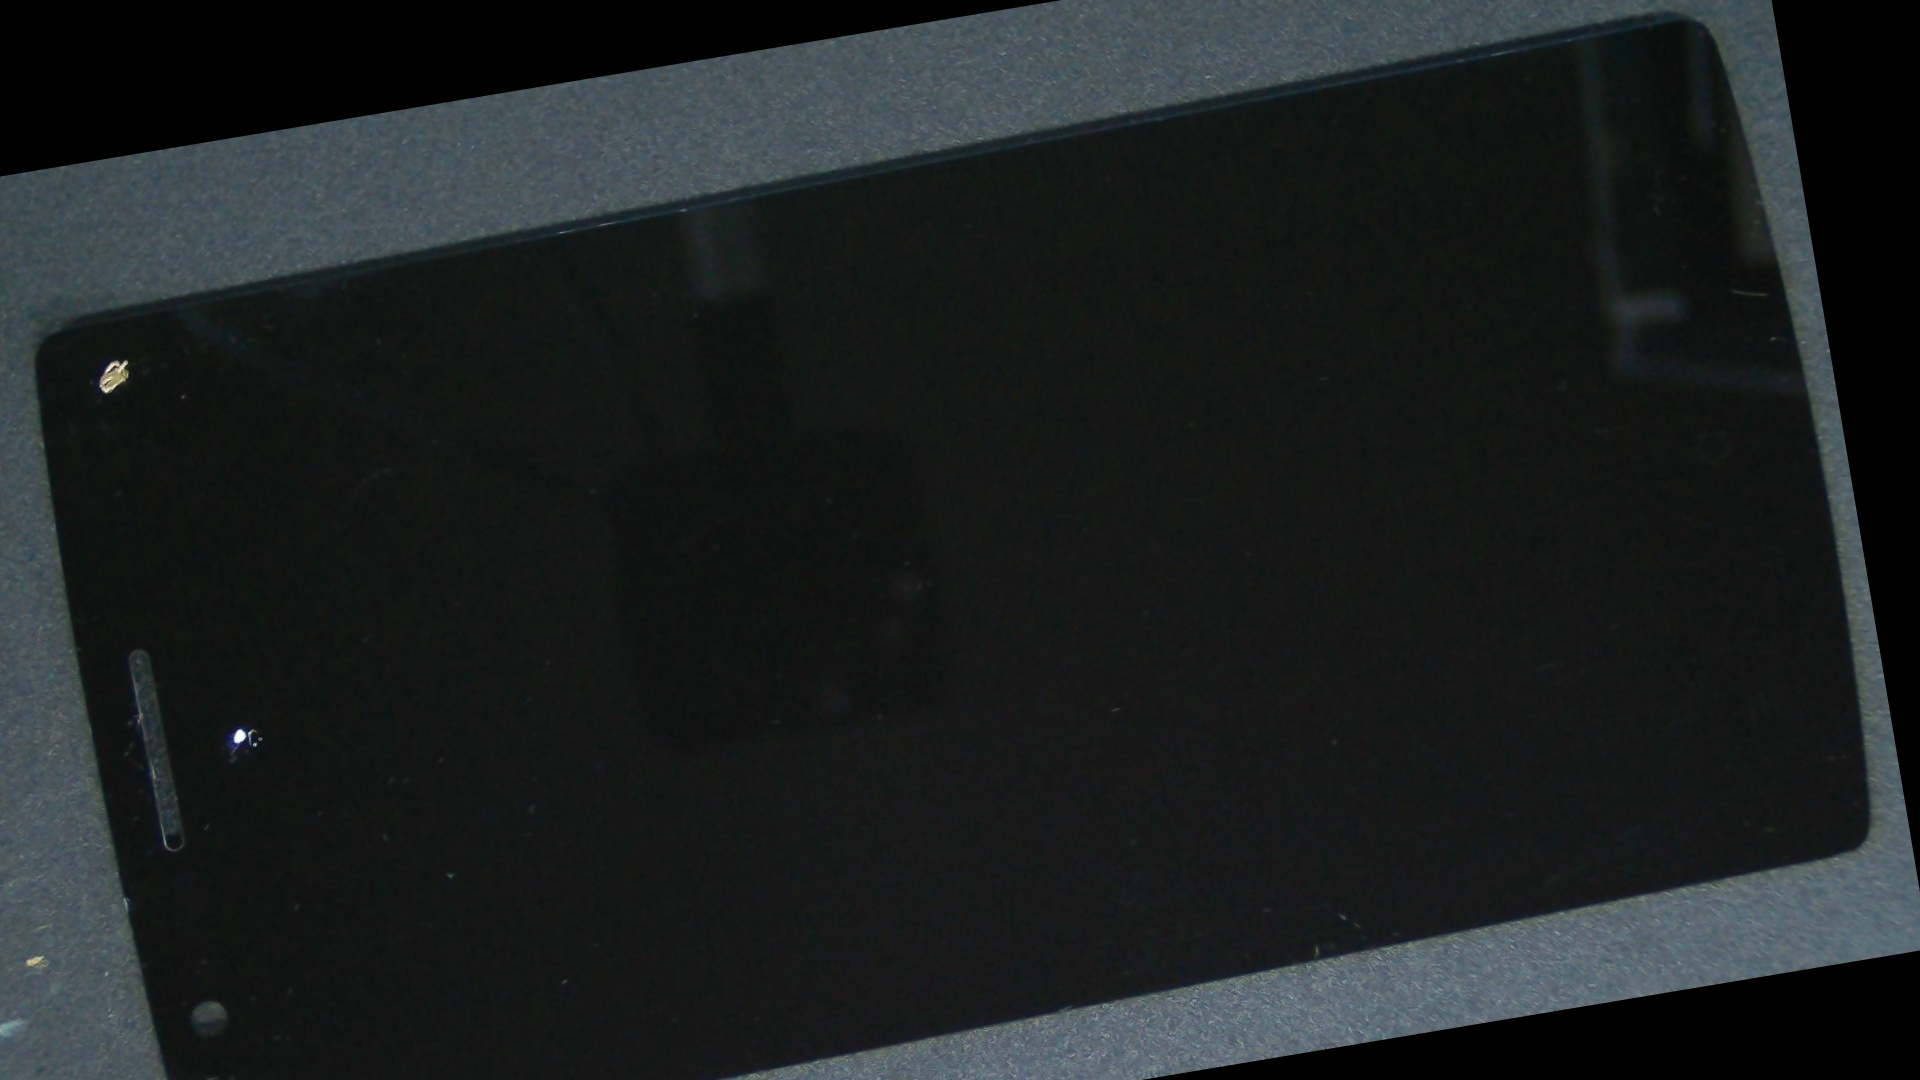oil: (40, 414, 434, 1042), (0, 243, 244, 480)
